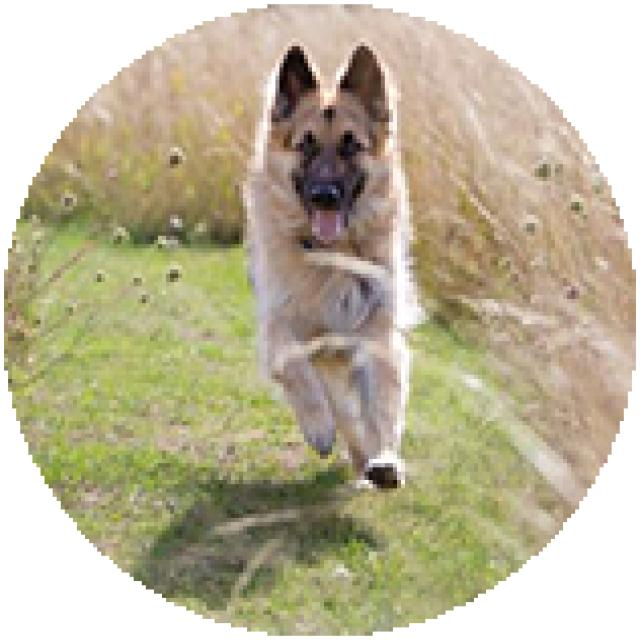GERMAN_SHEPHERD: (225, 36, 428, 494)
